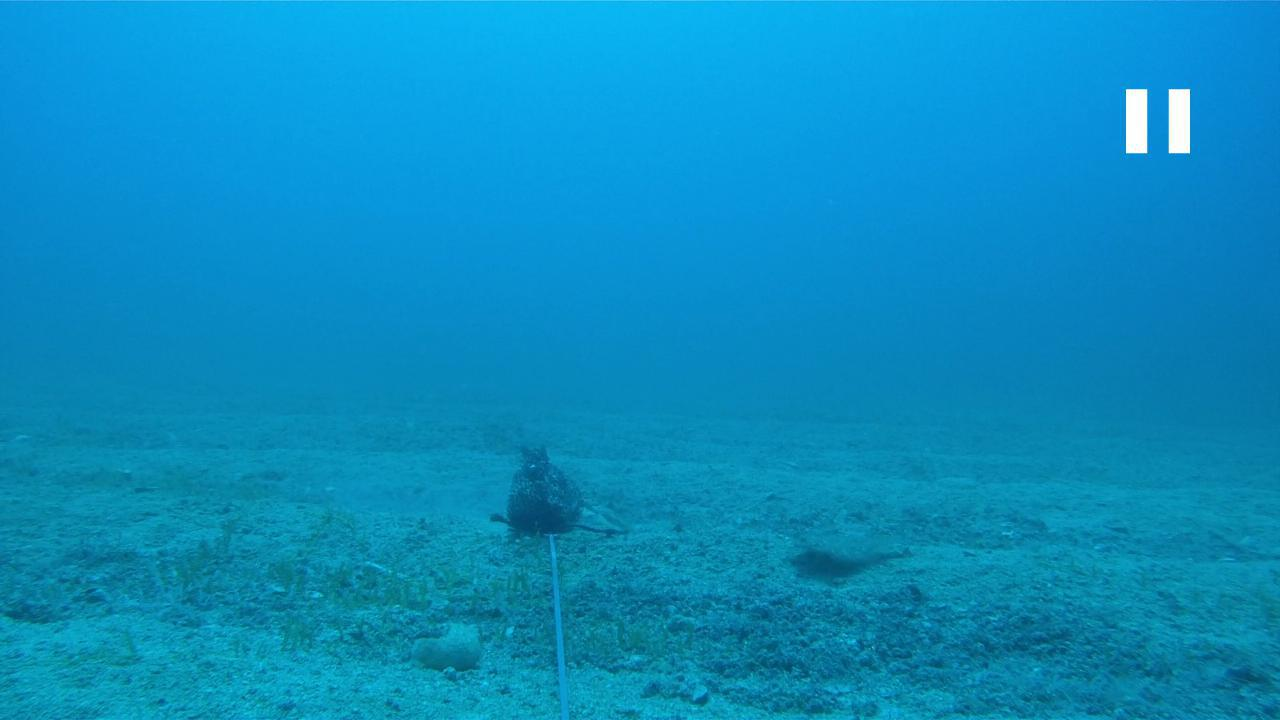bothus: (784, 524, 914, 562)
